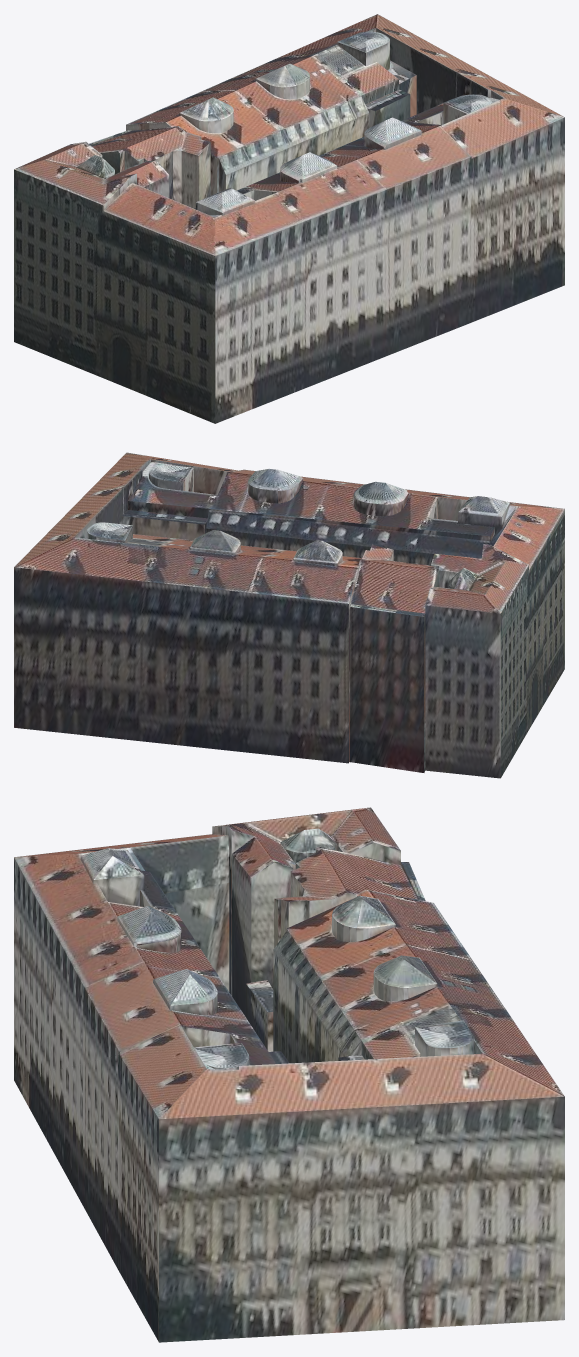
The model's file is LYON_1ER_00060.dae.
3 views of the same model, one above another, from view 1: azimuth 30°, elevation 25°; view 2: azimuth 150°, elevation 25°; view 3: azimuth 270°, elevation 25° (orthographic). The views are drawn at different scales.
Size of the model in its own units: 77.71 by 59.18 by 31.4.
Materials: 2 (2 with a texture image).
